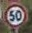limite 50: (2, 1, 27, 28)
